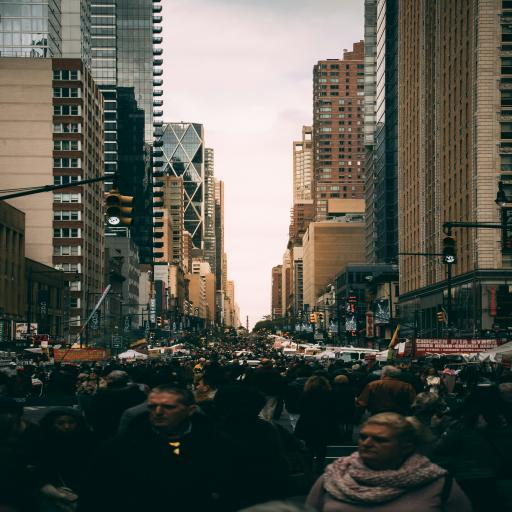car: (235, 351, 253, 356), (247, 360, 260, 366)
